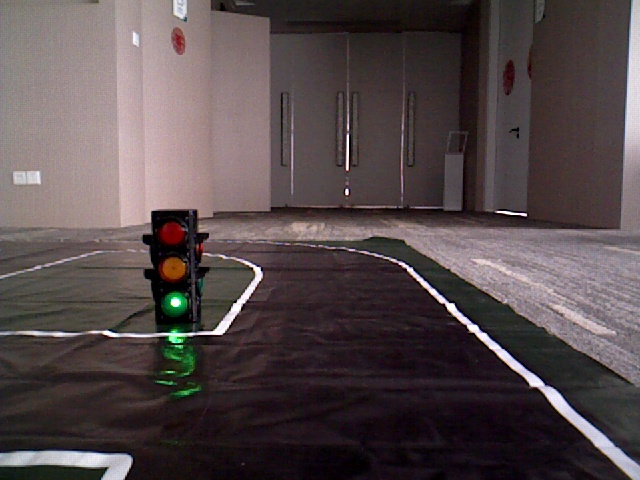green: (151, 214, 196, 323)
